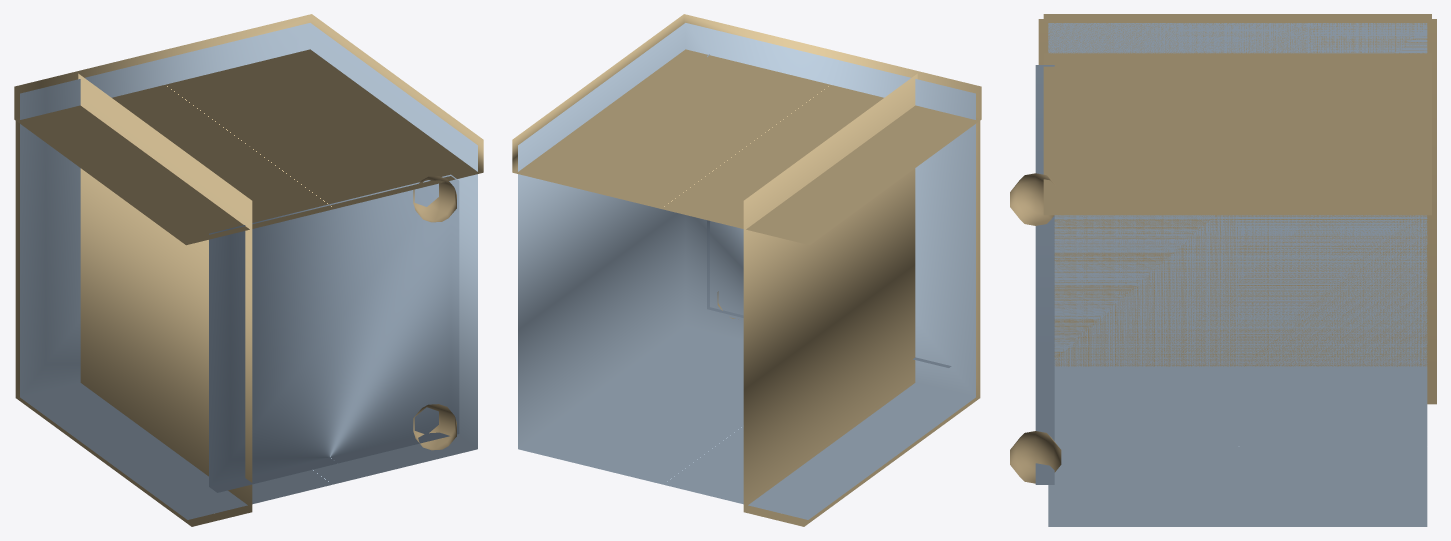
Rendered from block_corner.glb.
3 renders of one model, left to right at view 1: azimuth 30°, elevation 25°; view 2: azimuth 150°, elevation 25°; view 3: azimuth 270°, elevation 25°, orthographic. The views are drawn at different scales.
Size of the model in its own units: 24.6 by 24.8 by 27.02.
